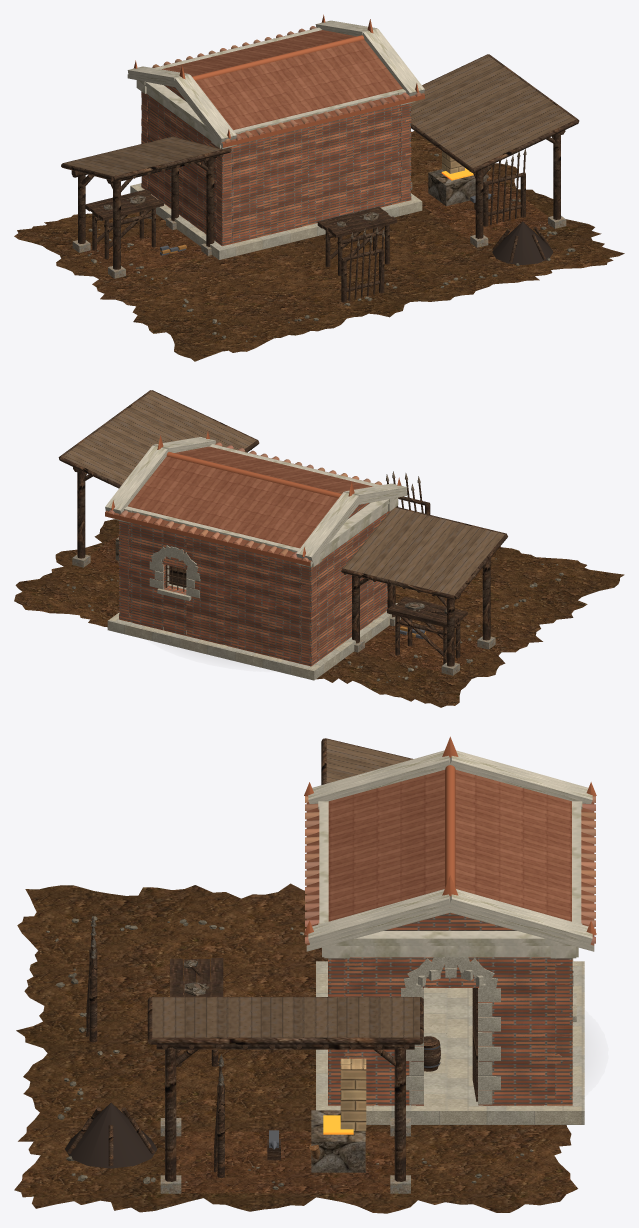
The model's file is smith.glb.
3 renders of one model, top to bottom at view 1: azimuth 30°, elevation 25°; view 2: azimuth 150°, elevation 25°; view 3: azimuth 270°, elevation 25°, orthographic. The views are drawn at different scales.
Visible parts, largest first — view 1: part_1, part_4, part_6, part_20, part_9, part_19, part_7, part_5, part_21, part_13, part_18, part_22 (+2 smaller); view 2: part_4, part_1, part_9, part_20, part_6, part_19, part_5, part_7, part_21, part_22, part_8; view 3: part_1, part_20, part_19, part_4, part_5, part_6, part_9, part_7, part_18, part_13, part_22, part_15 (+3 smaller).
Boxes of the visible parts, x1=… form: part_1: x1=14, y1=131, x2=624, y2=361; part_4: x1=141, y1=85, x2=411, y2=246; part_6: x1=61, y1=54, x2=579, y2=302; part_20: x1=161, y1=30, x2=424, y2=143; part_9: x1=64, y1=54, x2=576, y2=176; part_19: x1=127, y1=20, x2=424, y2=148; part_7: x1=83, y1=172, x2=552, y2=275; part_5: x1=130, y1=183, x2=422, y2=259; part_21: x1=133, y1=14, x2=424, y2=147; part_13: x1=103, y1=149, x2=526, y2=246; part_18: x1=492, y1=221, x2=553, y2=264; part_22: x1=152, y1=26, x2=422, y2=143; part_4: x1=119, y1=503, x2=390, y2=666; part_1: x1=14, y1=519, x2=624, y2=707; part_9: x1=61, y1=391, x2=504, y2=595; part_20: x1=105, y1=446, x2=372, y2=562; part_6: x1=58, y1=390, x2=507, y2=666; part_19: x1=105, y1=437, x2=407, y2=567; part_5: x1=107, y1=545, x2=397, y2=680; part_7: x1=85, y1=534, x2=485, y2=671; part_21: x1=105, y1=431, x2=400, y2=566; part_22: x1=107, y1=442, x2=382, y2=561; part_8: x1=72, y1=554, x2=495, y2=675; part_1: x1=14, y1=883, x2=577, y2=1213; part_20: x1=306, y1=770, x2=594, y2=945; part_19: x1=306, y1=750, x2=594, y2=958; part_4: x1=328, y1=912, x2=572, y2=1105; part_5: x1=316, y1=957, x2=584, y2=1124; part_6: x1=67, y1=738, x2=477, y2=1181; part_9: x1=152, y1=739, x2=419, y2=1037; part_7: x1=176, y1=1131, x2=394, y2=1193; part_18: x1=65, y1=1102, x2=157, y2=1168; part_13: x1=90, y1=917, x2=365, y2=1172; part_22: x1=305, y1=796, x2=595, y2=943; part_15: x1=340, y1=1058, x2=366, y2=1131.
Bounding box in the file's own units: 9.13 × 3.2 × 7.14.
Materials: 23 (16 with a texture image).
